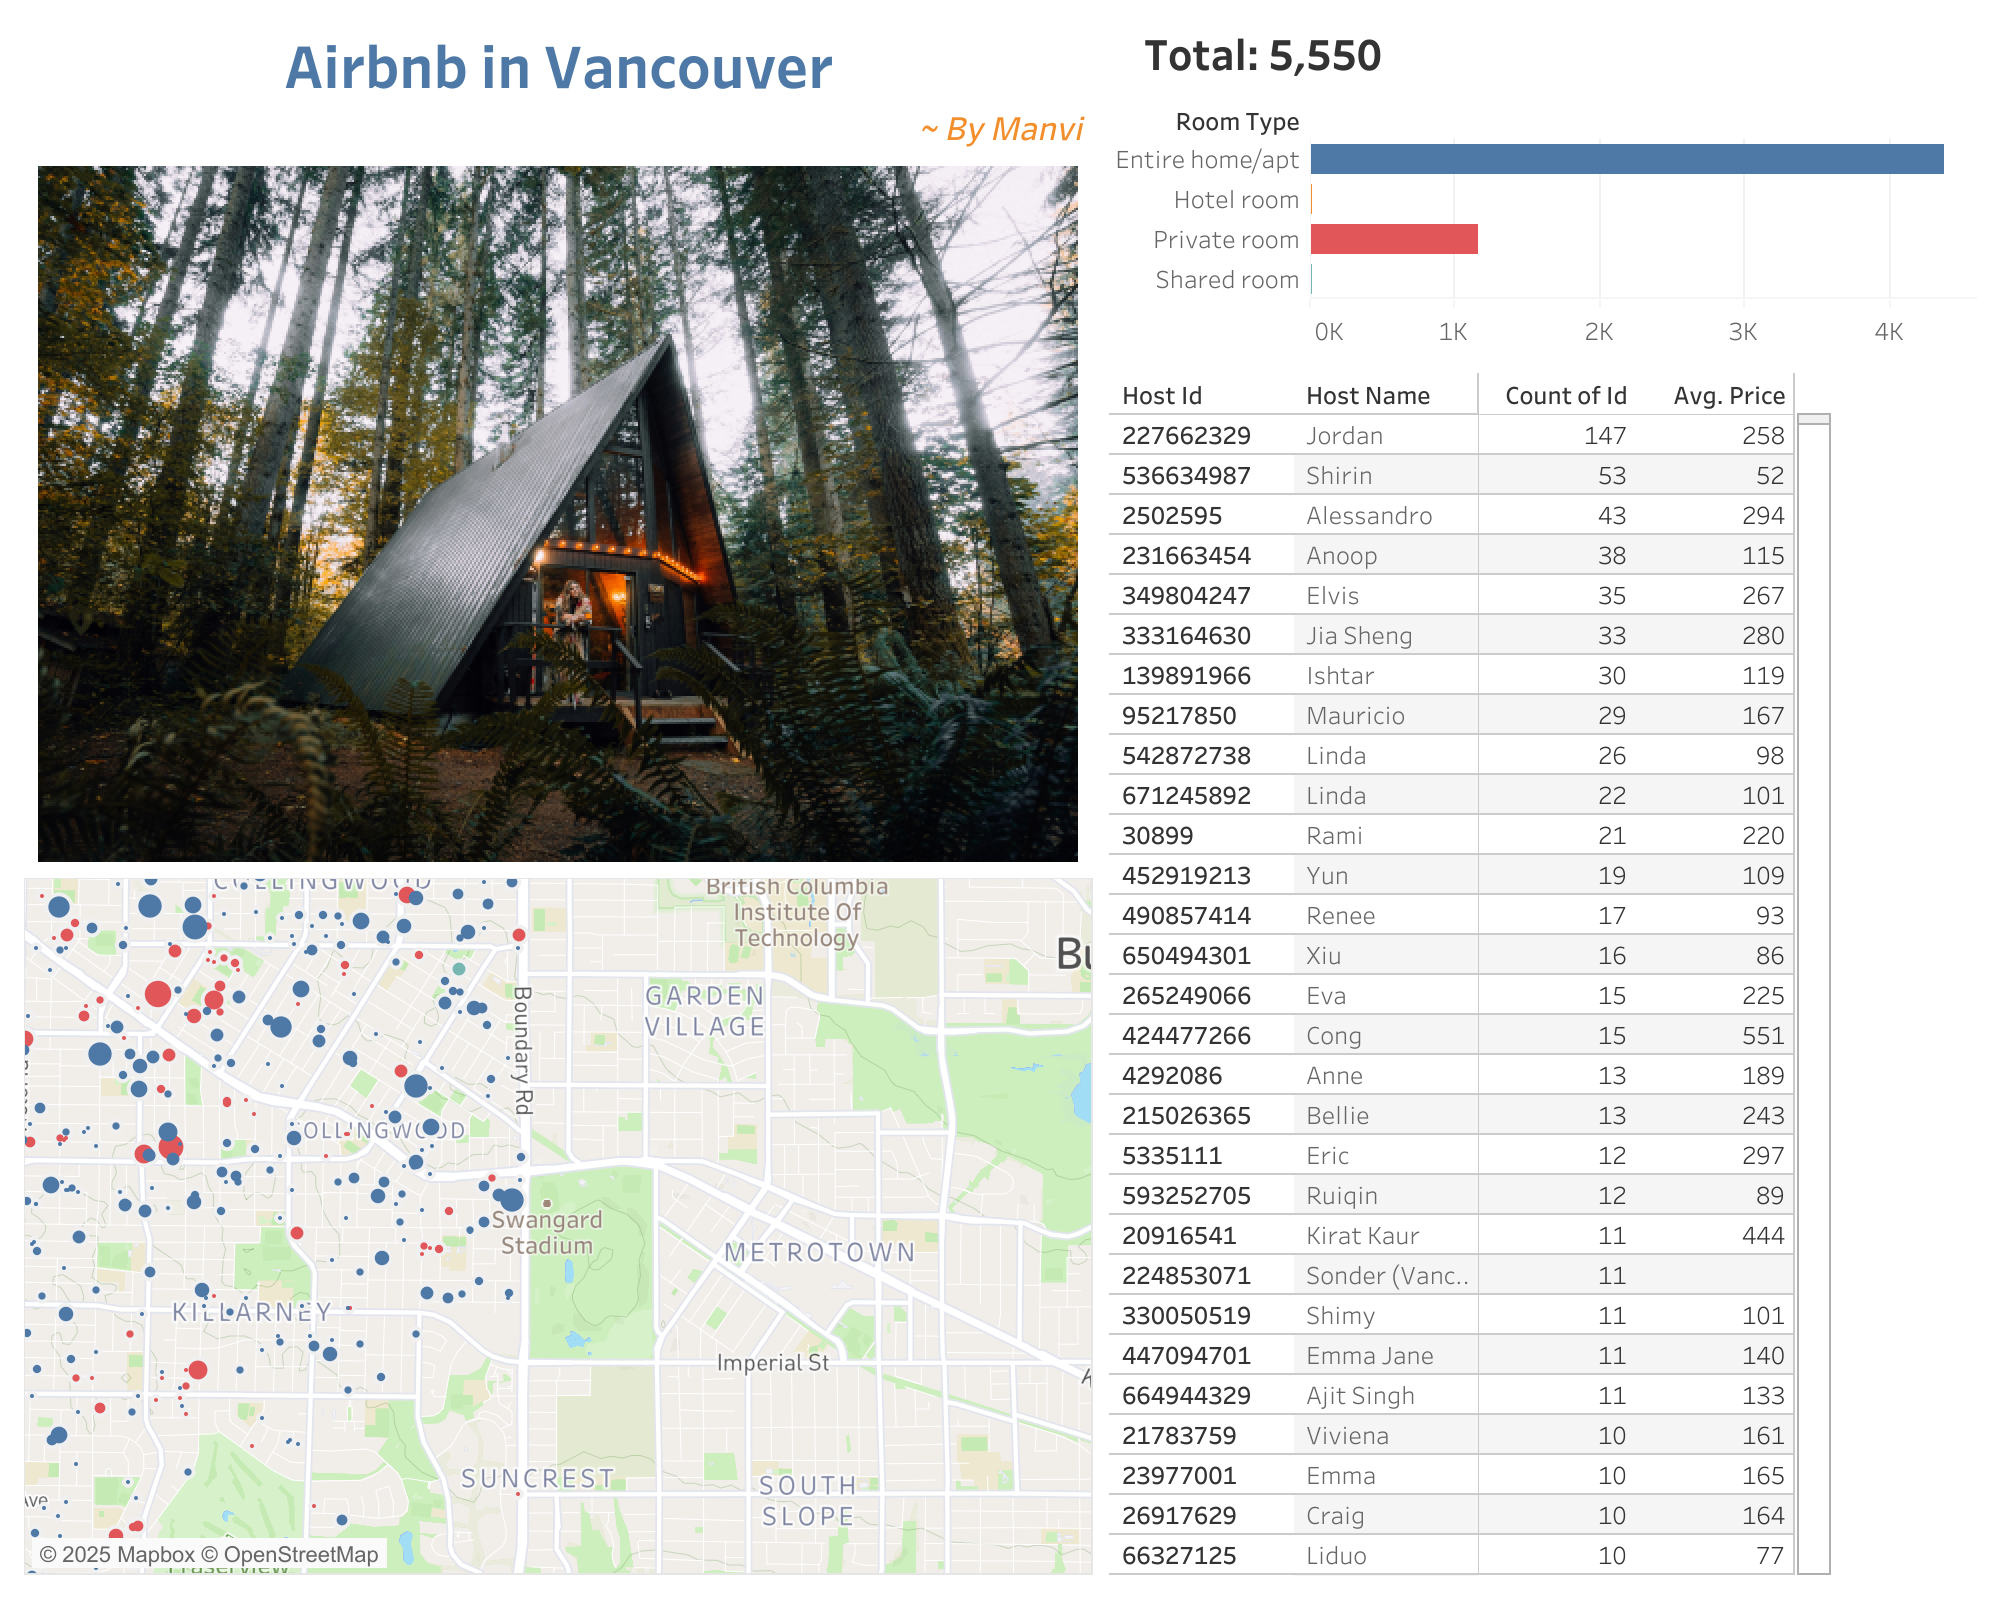

Layout of this report page (visuals, bound fields, positions):
{"tool":"tableau","page":{"name":"Airbnb in Vancouver","canvas":[1000,800],"ordinal":0},"visuals":[{"type":"title","box":[8,8,543,70]},{"type":"worksheet","title":"1. Listing Count","mark":"Automatic","box":[551,8,441,37]},{"type":"worksheet","title":"5. Room Types","mark":"Automatic","rows":["room_type"],"cols":["id"],"box":[551,45,441,138]},{"type":"image","param":"/Users/manvisharma/Downloads/karsten-winegeart-sStahKEhT9w-unsplash.jpg","box":[8,78,543,357]},{"type":"worksheet","title":"6. Top Hosts","mark":"Automatic","rows":["host_id","host_name"],"box":[551,183,441,609]},{"type":"worksheet","title":"2. Map","mark":"Automatic","rows":["latitude"],"cols":["longitude"],"box":[8,435,543,357]}]}

Visuals, with their boxes in screenshot pixels (x1, y1, x2, y2), scaled from the page's 1000x800 canvas onto the 1998x1598 screenshot:
title: {"left": 16, "top": 16, "right": 1101, "bottom": 156}
"1. Listing Count" worksheet: {"left": 1101, "top": 16, "right": 1982, "bottom": 90}
"5. Room Types" worksheet: {"left": 1101, "top": 90, "right": 1982, "bottom": 366}
image: {"left": 16, "top": 156, "right": 1101, "bottom": 869}
"6. Top Hosts" worksheet: {"left": 1101, "top": 366, "right": 1982, "bottom": 1582}
"2. Map" worksheet: {"left": 16, "top": 869, "right": 1101, "bottom": 1582}
